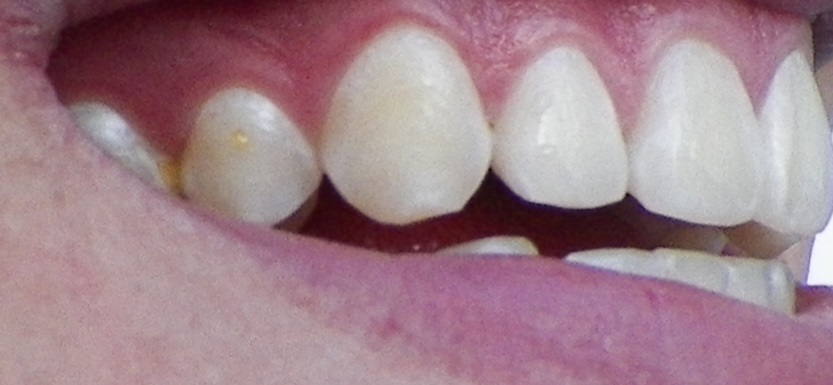boca: (95, 45, 833, 311)
